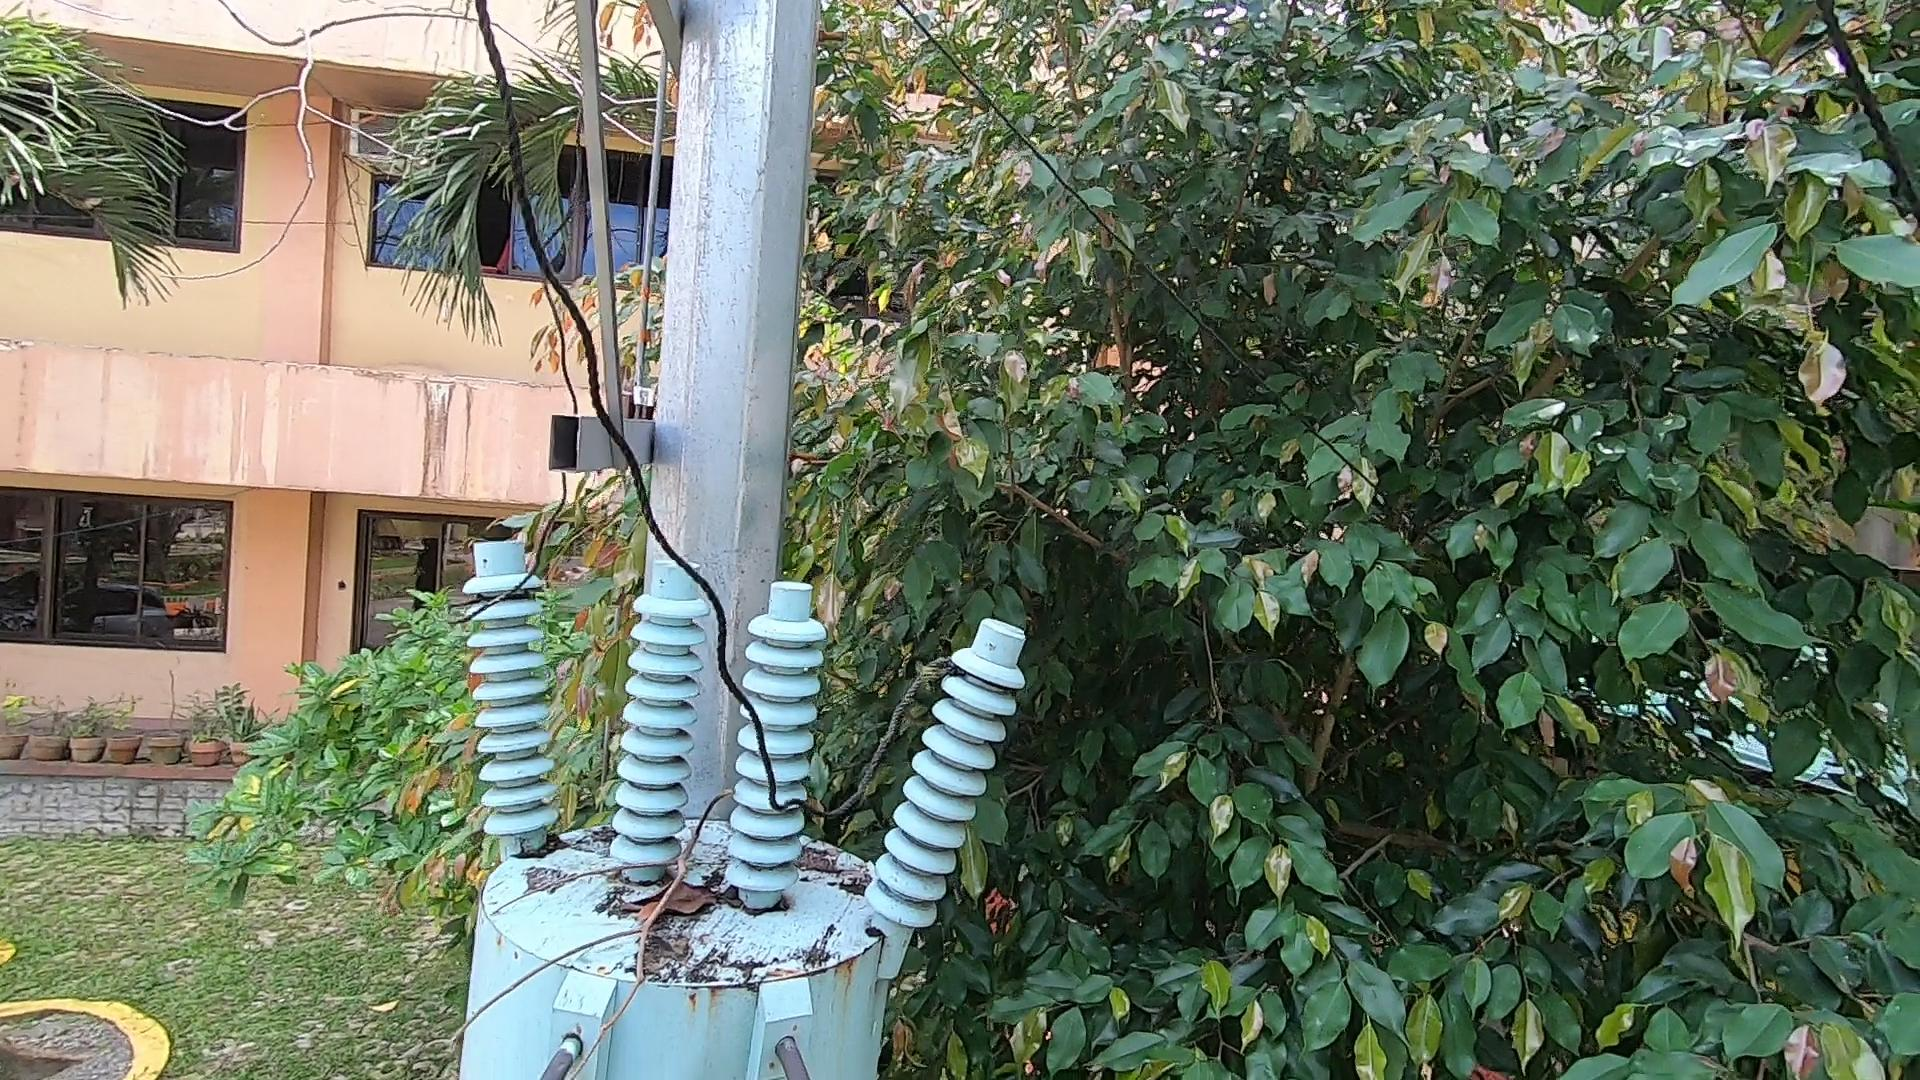leaf: (629, 878, 740, 932), (800, 841, 870, 893), (508, 828, 576, 858)
tree branch: (444, 782, 777, 1065)
